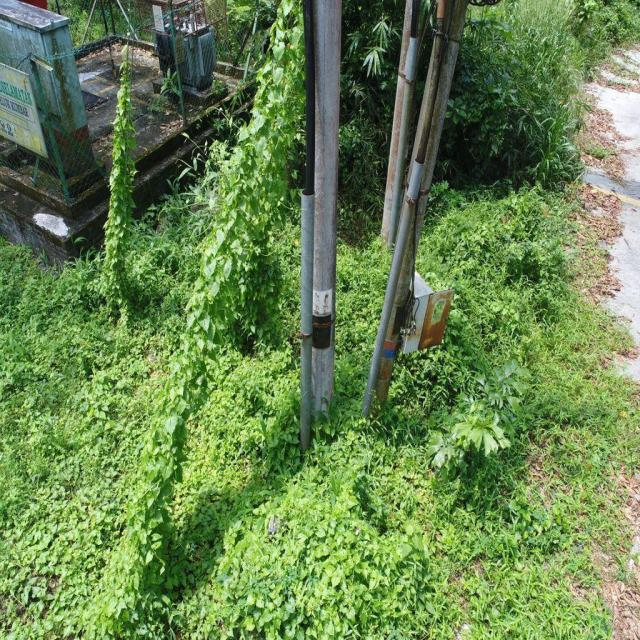light_pole: (140, 5, 300, 511)
